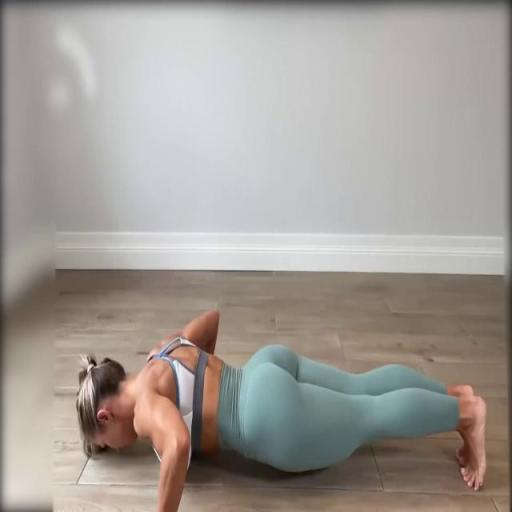Normal_BrenchPress: (74, 308, 489, 510)
